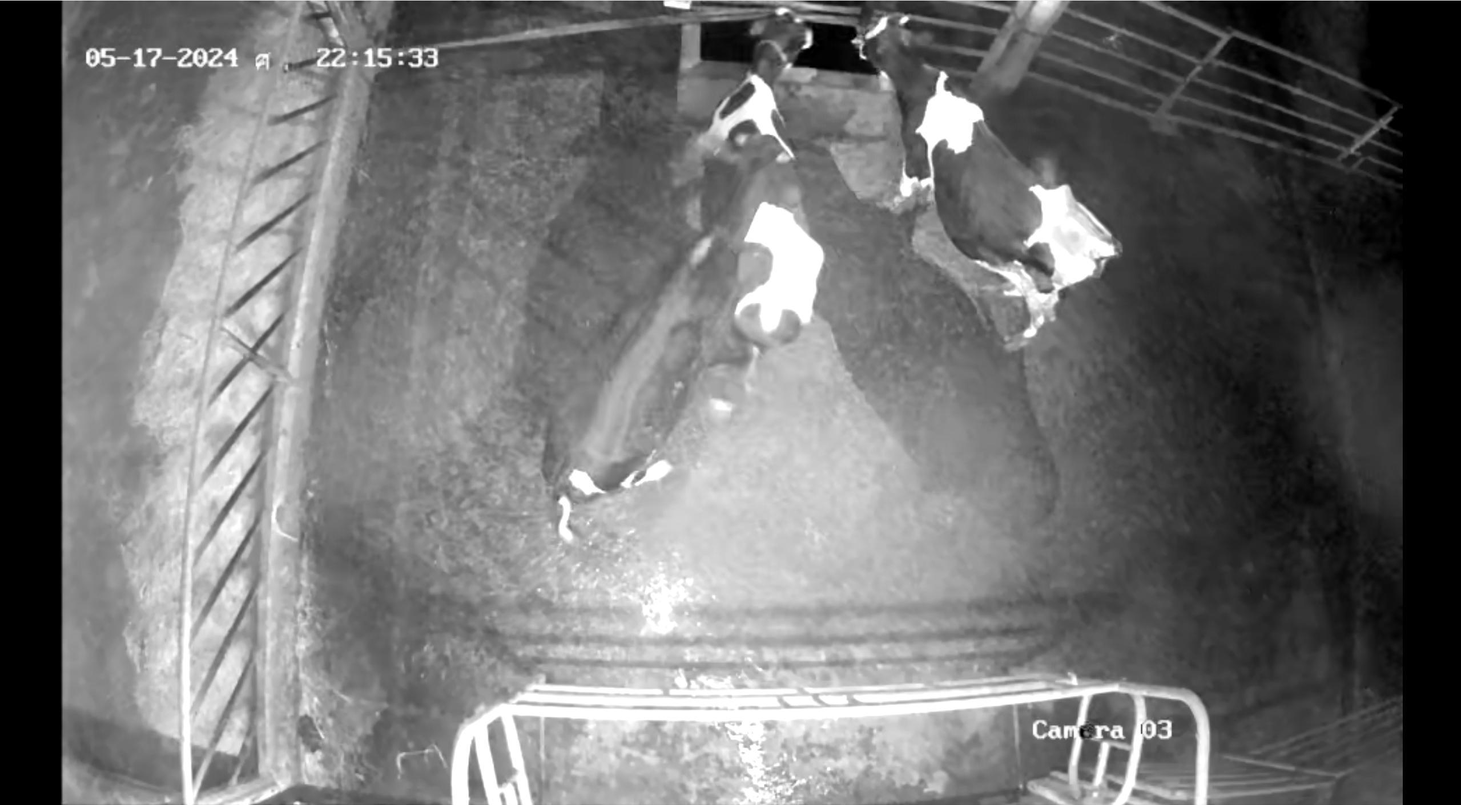drink: (715, 1, 821, 129), (845, 8, 945, 129)
ride: (522, 137, 811, 543)
